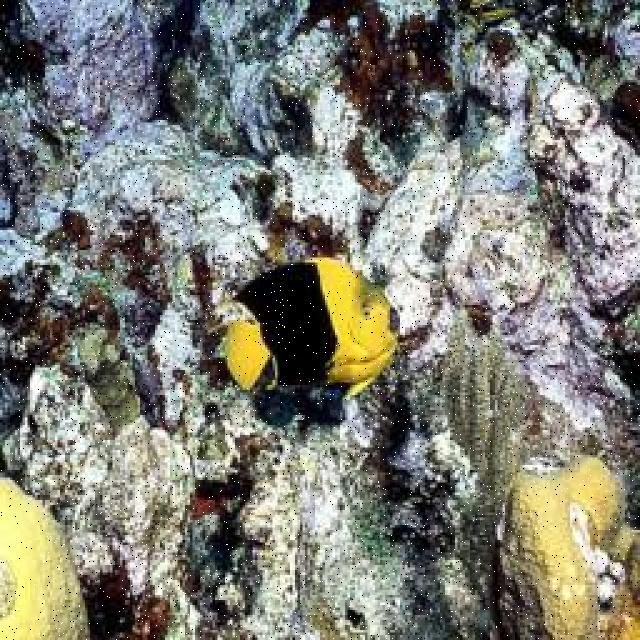fish: (222, 258, 401, 403)
